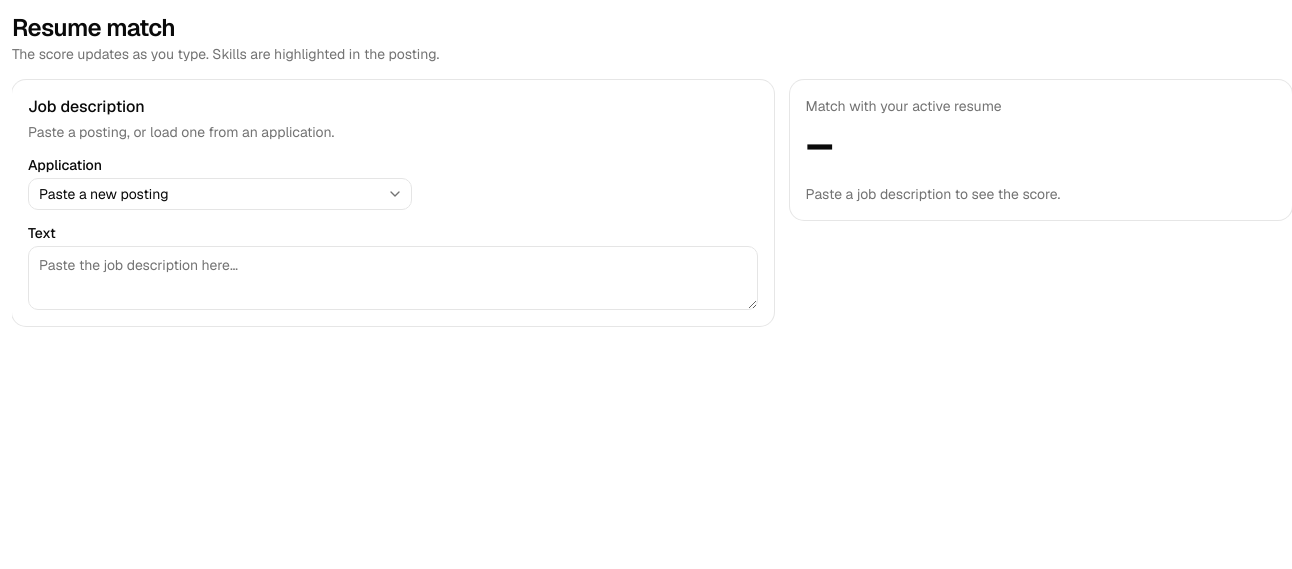
Test: MatchPage › scores once typing pauses, not on every keystroke
In the text box labelled "Text": (393, 278) [28, 246, 758, 310], type "We use Python, SQL and Spark daily."
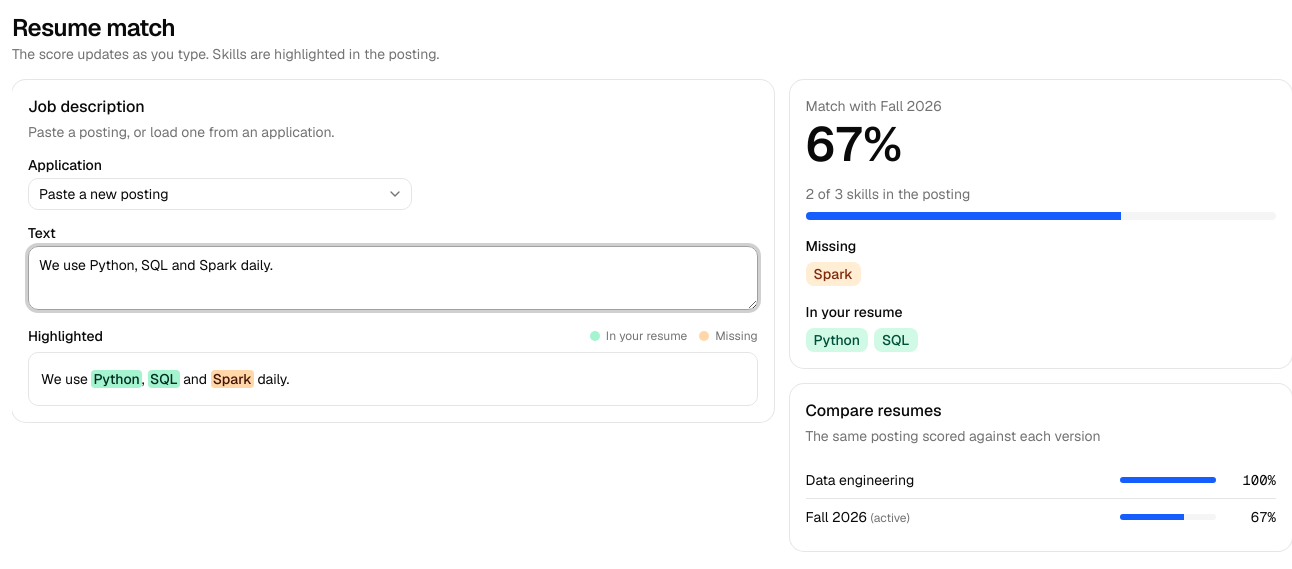
Result: the text "2 of 3 skills in the posting" is shown at [806, 185, 970, 203]
Result: the text "67%" below "Match with" is shown at [806, 113, 901, 175]
